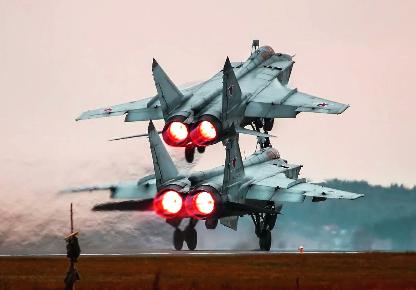Mig31: (58, 118, 366, 250), (76, 39, 352, 162)
